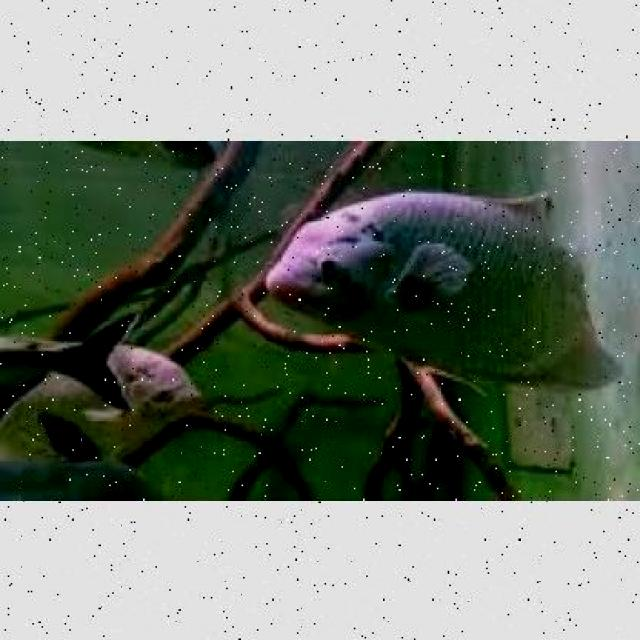gurame: (272, 185, 614, 381)
